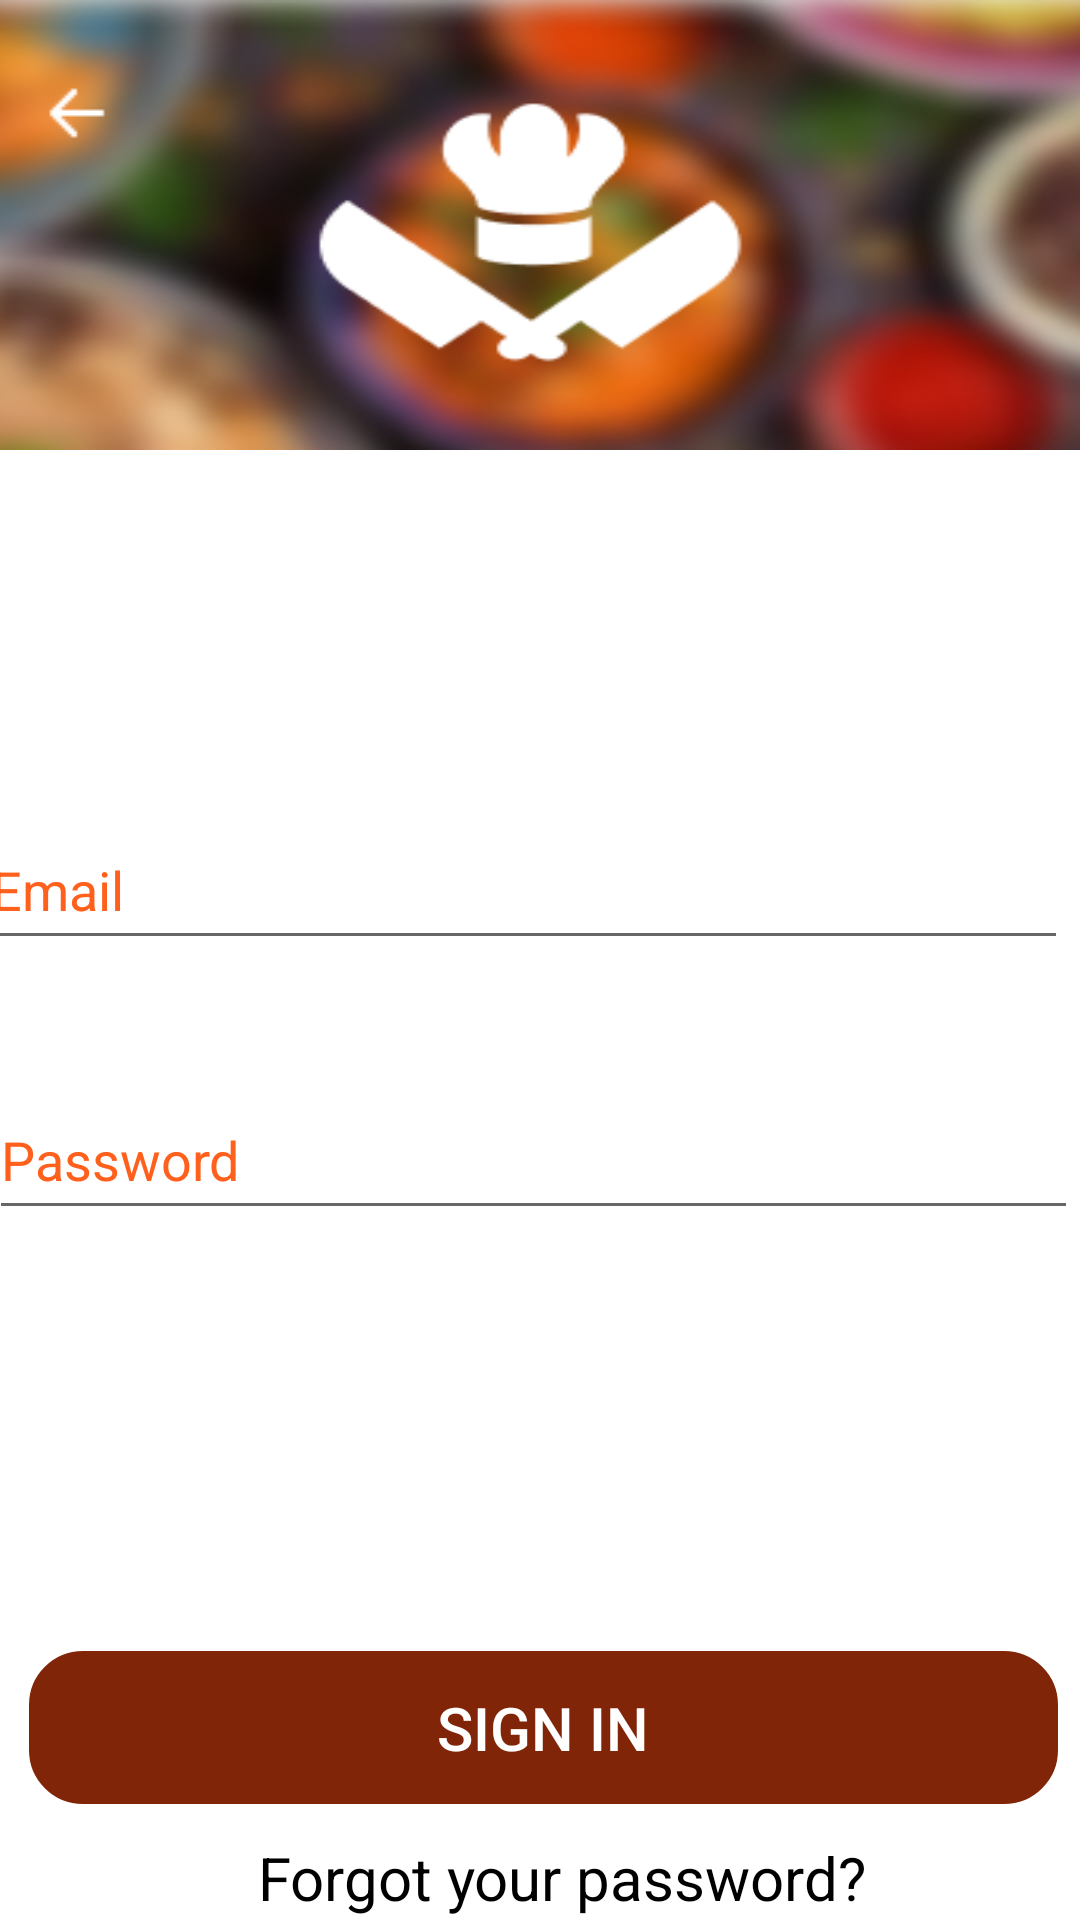

Where to tap for icons on this 1080*1920 app screen, as (x,y):
arrow: (77,113)
